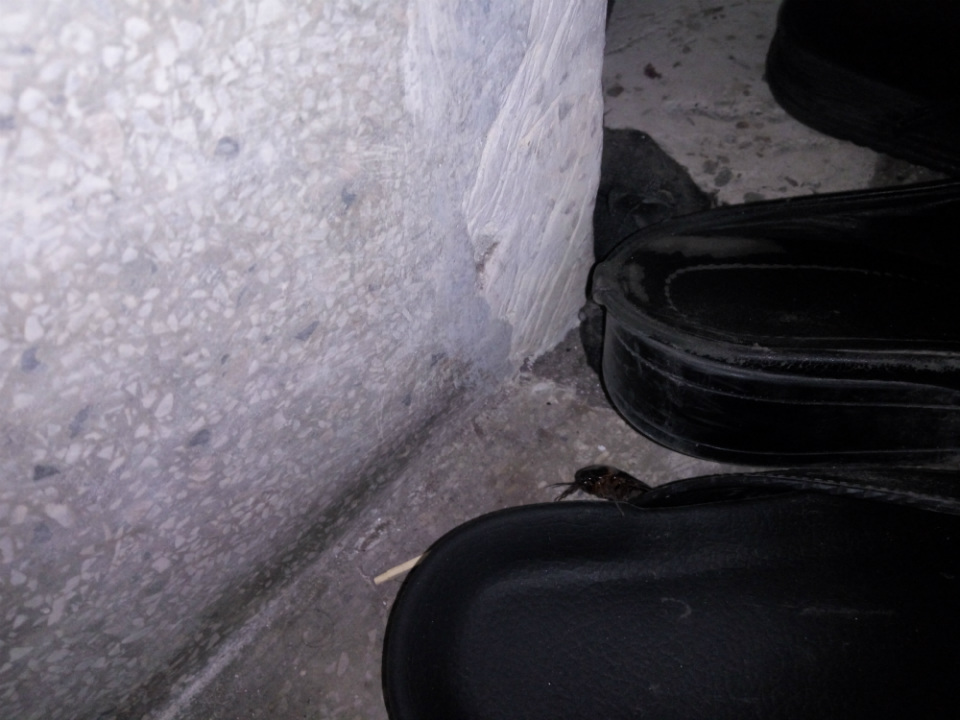cockroach: (501, 435, 658, 511)
